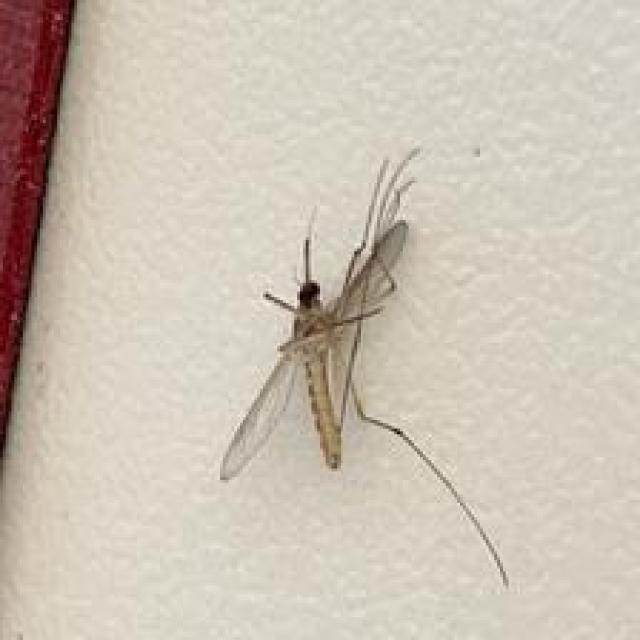Culex: (217, 146, 512, 588)
